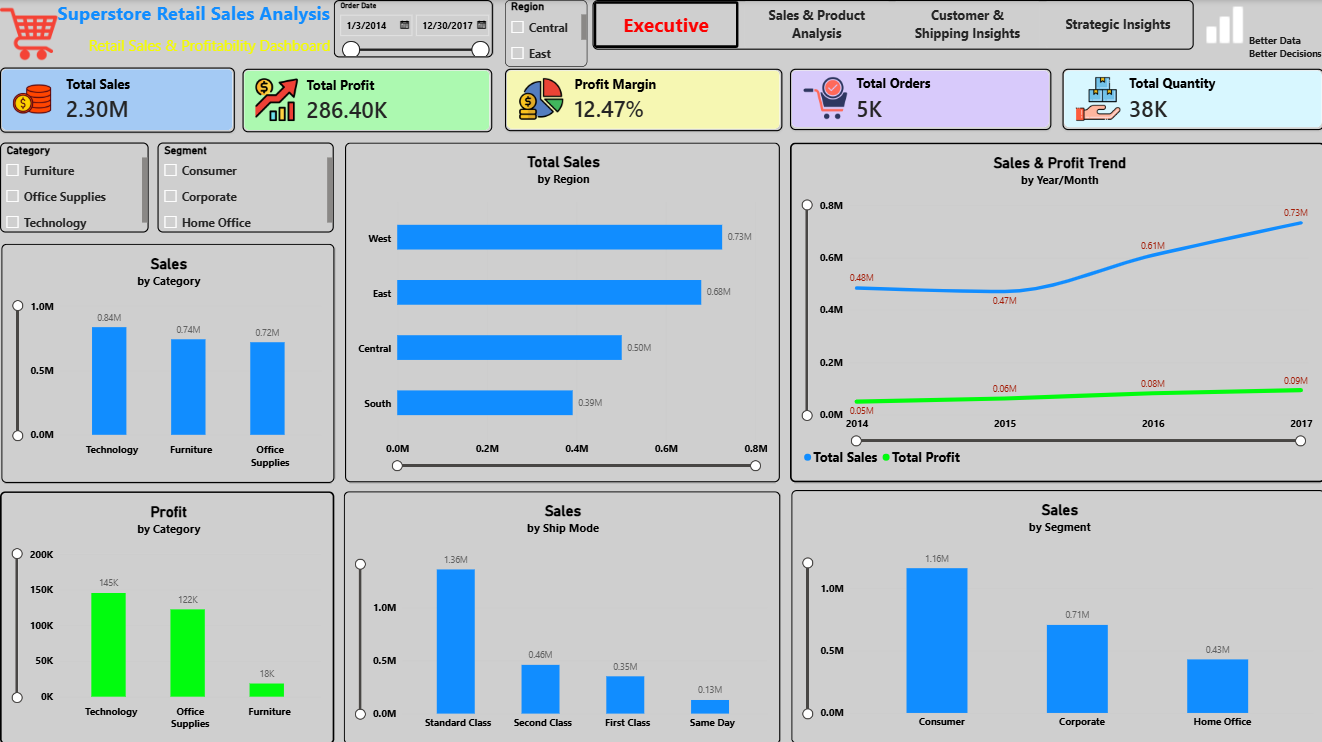

What the dashboard file says about the page in this screenshot:
{"tool":"powerbi","page":{"name":"Executive","canvas":[1920,1080],"ordinal":0},"visuals":[{"type":"cardVisual","fields":{"Data":["superstore_project superstore_cleaned.Total Sales"]},"box":[0,97,340,94],"z":0},{"type":"cardVisual","fields":{"Data":["superstore_project superstore_cleaned.Total Profit"]},"box":[351.1,99.5,361.9,92.3],"z":1000},{"type":"cardVisual","fields":{"Data":["superstore_project superstore_cleaned.Profit Margin"]},"box":[731.1,99.5,401.7,90.5],"z":2000},{"type":"cardVisual","fields":{"Data":["superstore_project superstore_cleaned.Total Orders"]},"box":[1143.7,99.5,378.2,88.7],"z":3000},{"type":"cardVisual","fields":{"Data":["Sum(superstore_project superstore_cleaned.Quantity)"]},"box":[1538.2,99.5,380,88.7],"z":4000},{"type":"lineChart","title":"Sales & Profit Trend","fields":{"Y":["superstore_project superstore_cleaned.Total Sales","superstore_project superstore_cleaned.Total Profit"],"Category":["Calendar.Year","Calendar.Month Name"]},"box":[1143.7,206.3,776.3,492.2],"z":5000},{"type":"clusteredBarChart","fields":{"Category":["superstore_project superstore_cleaned.Region"],"Y":["superstore_project superstore_cleaned.Total Sales"]},"box":[499.5,206.3,629.8,492.2],"z":6000},{"type":"clusteredColumnChart","title":"Sales","fields":{"Category":["superstore_project superstore_cleaned.Ship Mode"],"Y":["superstore_project superstore_cleaned.Total Sales"]},"box":[498.3,711.7,631.7,368.3],"z":7000},{"type":"clusteredColumnChart","title":"Sales","fields":{"Category":["superstore_project superstore_cleaned.Category"],"Y":["superstore_project superstore_cleaned.Total Sales"]},"box":[2,352,482,346],"z":8000},{"type":"clusteredColumnChart","title":"Profit","fields":{"Category":["superstore_project superstore_cleaned.Category"],"Y":["superstore_project superstore_cleaned.Total Profit"]},"box":[0,712,484,368],"z":9000},{"type":"clusteredColumnChart","title":"Sales","fields":{"Y":["superstore_project superstore_cleaned.Total Sales"],"Category":["superstore_project superstore_cleaned.Segment"]},"box":[1145.5,709.4,774.5,369.2],"z":10000},{"type":"slicer","fields":{"Values":["Calendar.Date"]},"box":[483,0,230,83],"z":11000},{"type":"slicer","fields":{"Values":["superstore_project superstore_cleaned.Region"]},"box":[732,0,119,97],"z":12000},{"type":"slicer","fields":{"Values":["superstore_project superstore_cleaned.Category"]},"box":[0,206.3,215.3,130.3],"z":13000},{"type":"slicer","fields":{"Values":["superstore_project superstore_cleaned.Segment"]},"box":[228,206.3,255.2,130.3],"z":14000},{"type":"pageNavigator","box":[857.8,0,870.4,72.4],"z":17000},{"type":"textbox","box":[84,0,496,50],"z":18000},{"type":"textbox","box":[128,50,372,34],"z":19000},{"type":"image","box":[0,0,83.3,98.3],"z":20000},{"type":"image","box":[1728,0,90,72],"z":21000},{"type":"textbox","box":[1807,49,112,41],"z":22000}]}

Visuals, with their boxes in screenshot pixels (x1, y1, x2, y2), scaled from the page's 1920x1080 canvas onto the 1322x742 screenshot:
cardVisual - superstore_project superstore_cleaned.Total Sales: crop(0, 67, 234, 131)
cardVisual - superstore_project superstore_cleaned.Total Profit: crop(242, 68, 491, 132)
cardVisual - superstore_project superstore_cleaned.Profit Margin: crop(503, 68, 780, 131)
cardVisual - superstore_project superstore_cleaned.Total Orders: crop(787, 68, 1048, 129)
cardVisual - Sum(superstore_project superstore_cleaned.Quantity): crop(1059, 68, 1321, 129)
"Sales & Profit Trend" lineChart: crop(787, 142, 1321, 480)
clusteredBarChart - superstore_project superstore_cleaned.Region x superstore_project superstore_cleaned.Total Sales: crop(344, 142, 778, 480)
"Sales" clusteredColumnChart: crop(343, 489, 778, 741)
"Sales" clusteredColumnChart: crop(1, 242, 333, 480)
"Profit" clusteredColumnChart: crop(0, 489, 333, 741)
"Sales" clusteredColumnChart: crop(789, 487, 1321, 741)
slicer - Calendar.Date: crop(333, 0, 491, 57)
slicer - superstore_project superstore_cleaned.Region: crop(504, 0, 586, 67)
slicer - superstore_project superstore_cleaned.Category: crop(0, 142, 148, 231)
slicer - superstore_project superstore_cleaned.Segment: crop(157, 142, 333, 231)
pageNavigator: crop(591, 0, 1190, 50)
textbox: crop(58, 0, 399, 34)
textbox: crop(88, 34, 344, 58)
image: crop(0, 0, 57, 68)
image: crop(1190, 0, 1252, 49)
textbox: crop(1244, 34, 1321, 62)
